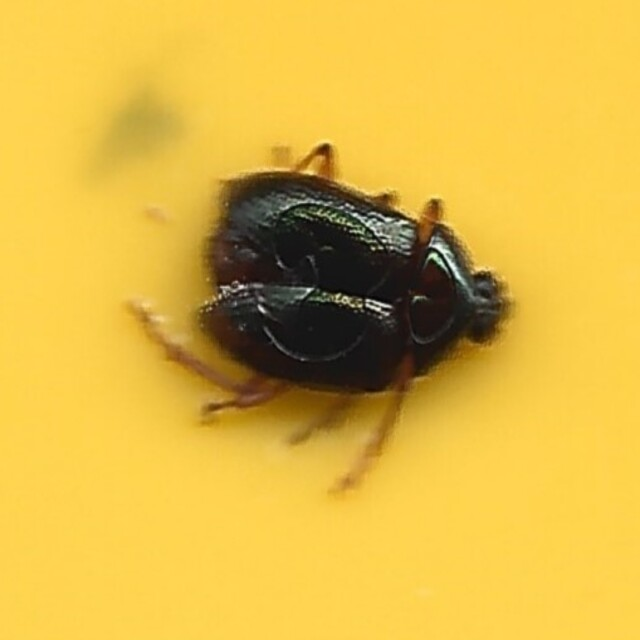Coleoptera: (126, 139, 514, 501)
